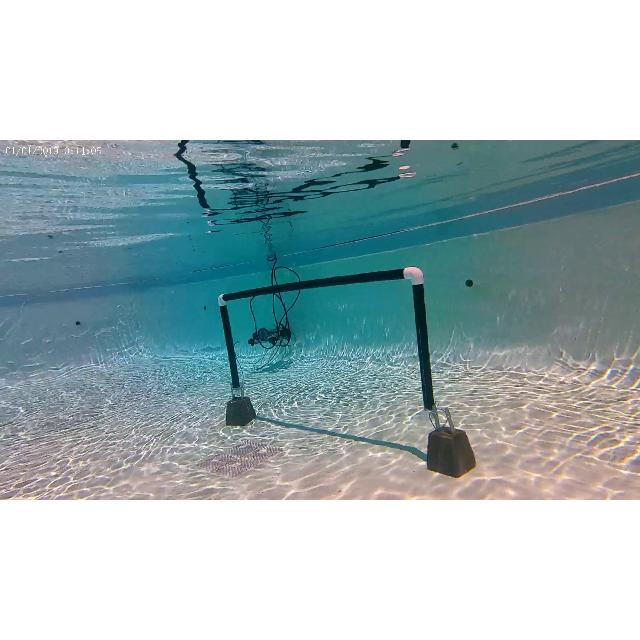prequal gate: (217, 268, 438, 412)
prequal gate leg l: (215, 293, 248, 421)
prequal gate leg r: (407, 270, 465, 470)
